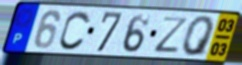6: (122, 13, 151, 54), (33, 9, 61, 50)
7: (96, 11, 123, 54)
C: (58, 9, 93, 52)
Q: (181, 15, 216, 58)
Z: (153, 15, 191, 54)
